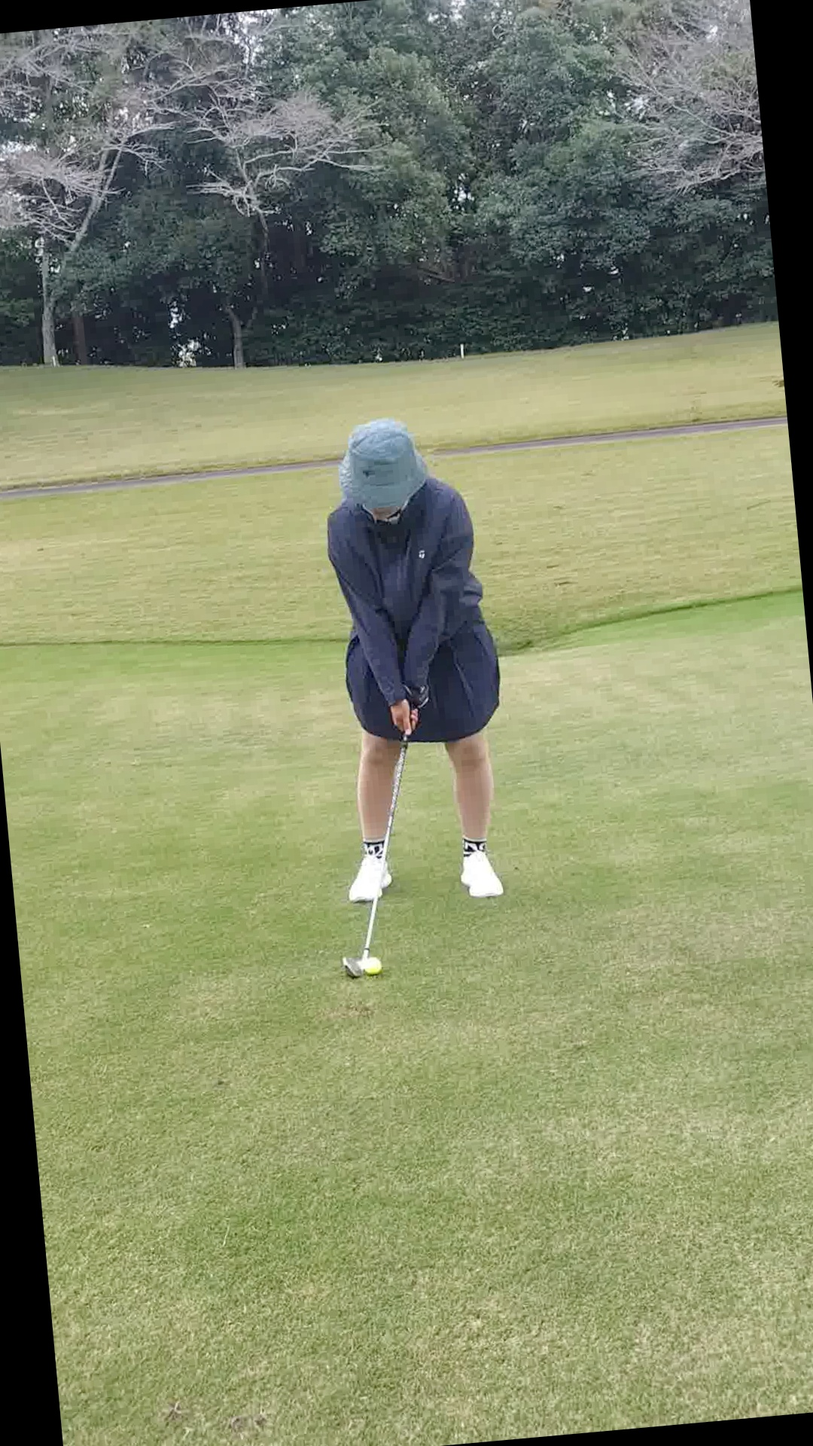clubhead: (267, 914, 435, 1052)
